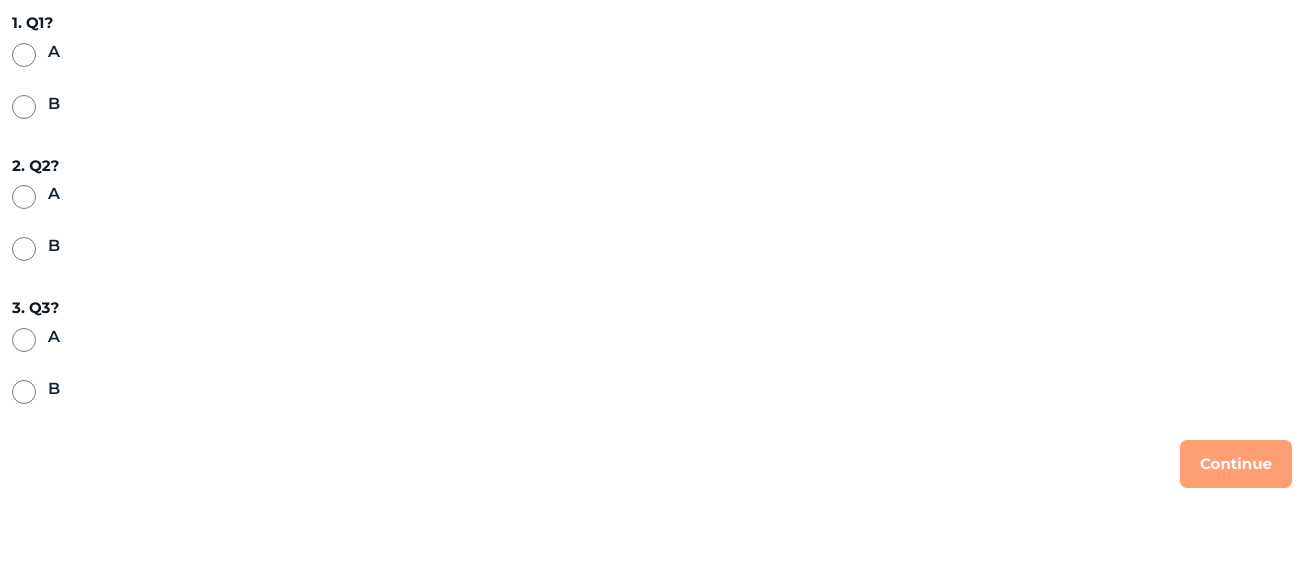
Test case: Quiz › shows a partial-correct result without blocking Continue
Step 1. Click the radio button labelled "B" below "Q1?" → (24, 106), box [12, 94, 36, 118]
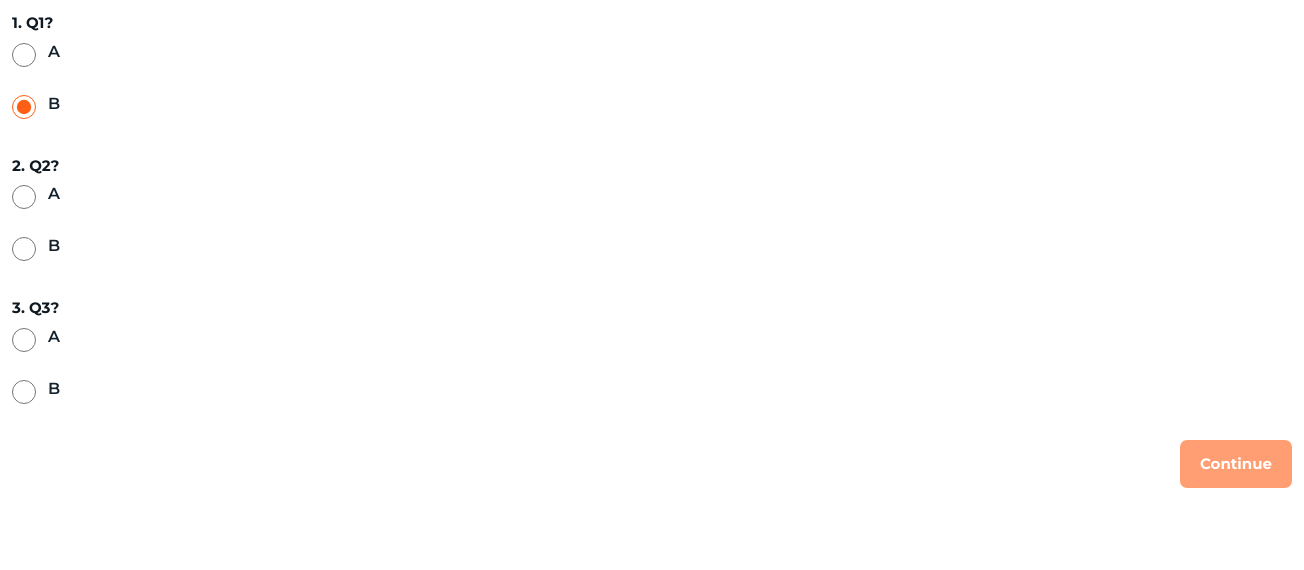
Step 2. Click the radio button labelled "B" below "Q2?" → (24, 249), box [12, 237, 36, 261]
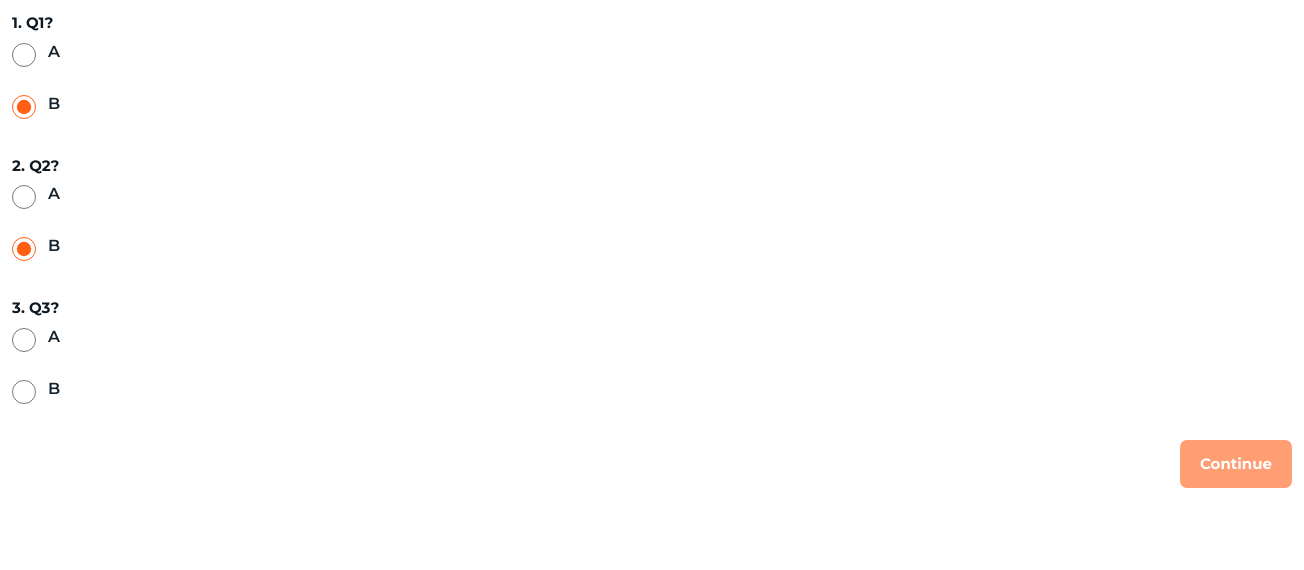
Step 3. Click the radio button labelled "B" below "Q3?" → (24, 392), box [12, 380, 36, 404]
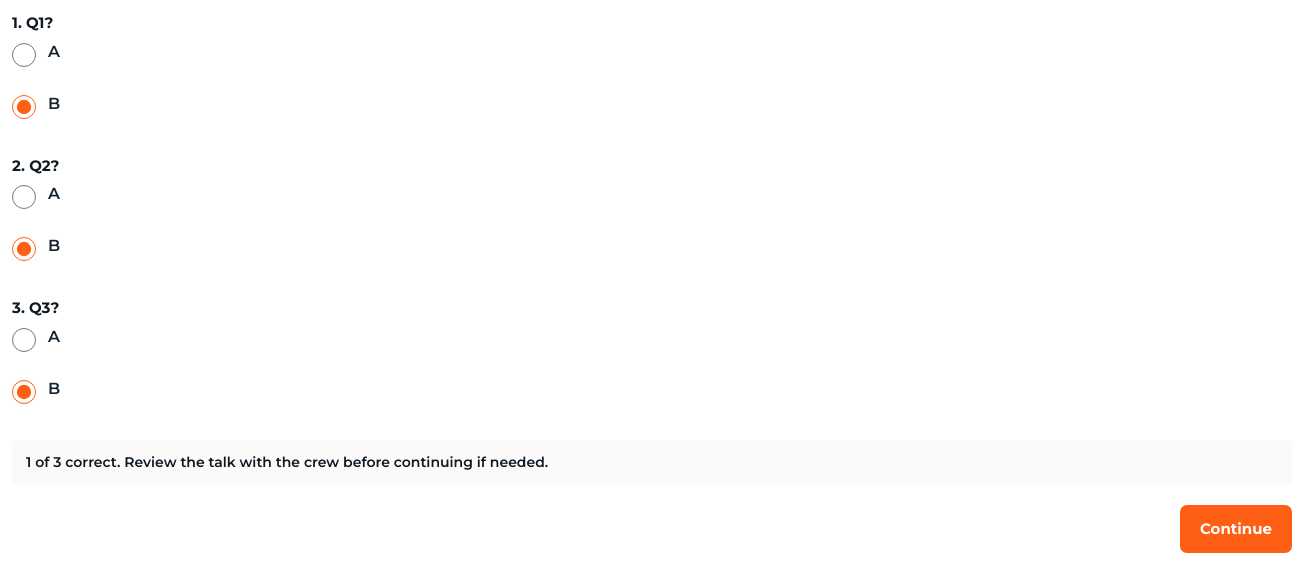
Check: the text "1 of 3 correct" is shown, box [26, 452, 548, 470]
Check: the button "Continue" is enabled, box [1180, 504, 1292, 552]
